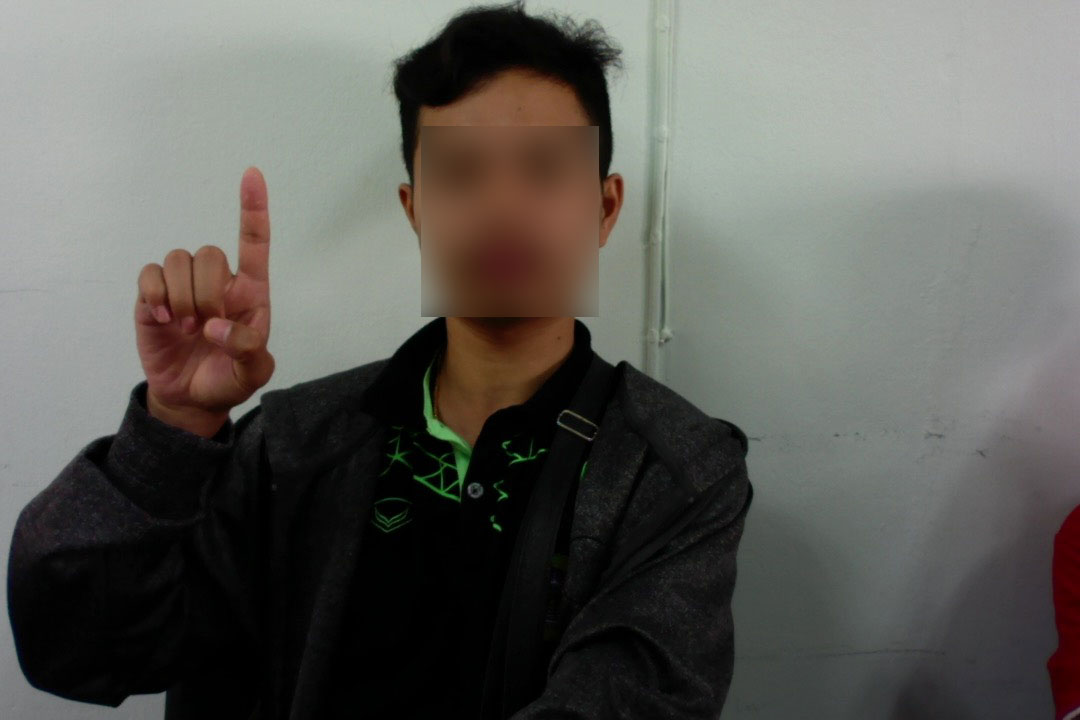dor: (122, 156, 293, 427)
